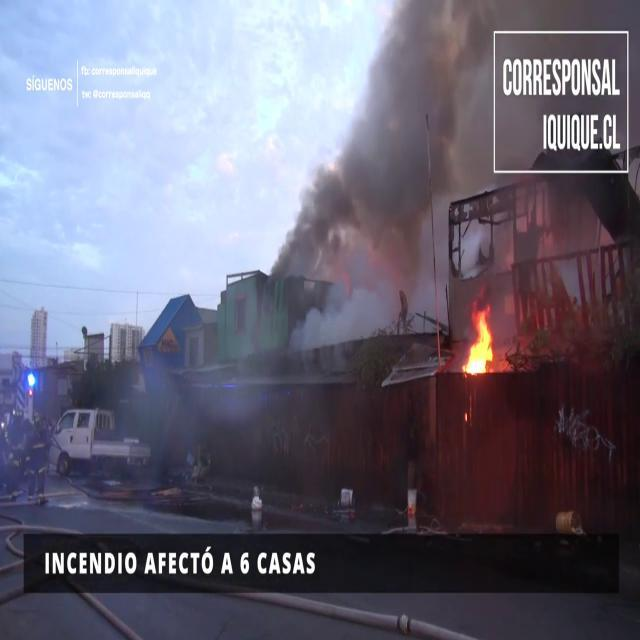Fire: (460, 305, 500, 377)
Smoke: (245, 0, 493, 340)
